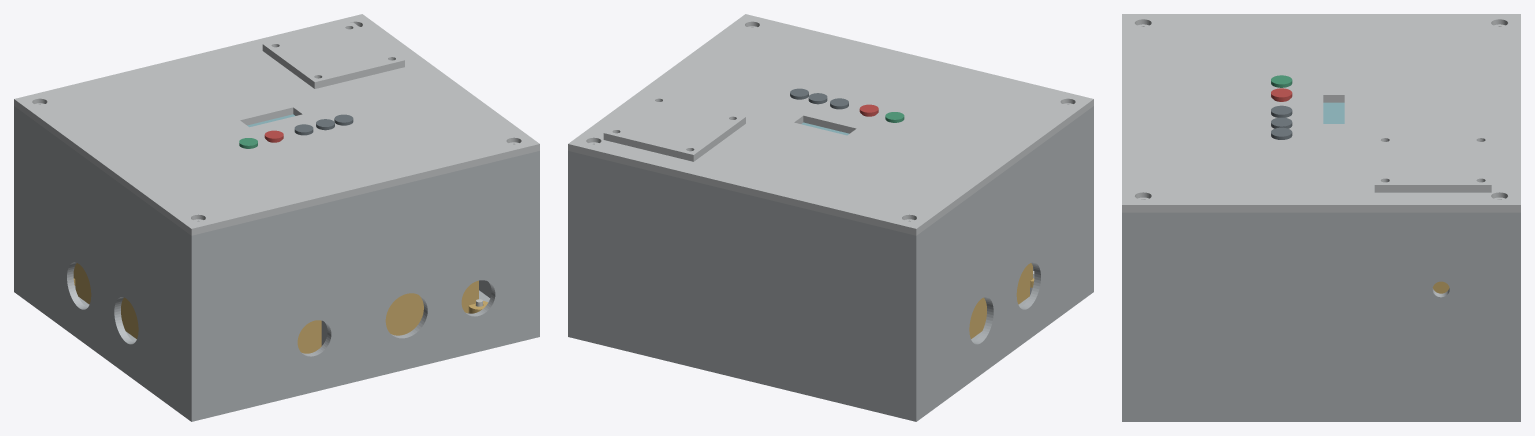
Rendered from assembled.glb.
The picture shows the model from 3 angles, left to right: view 1: azimuth 30°, elevation 25°; view 2: azimuth 150°, elevation 25°; view 3: azimuth 270°, elevation 25°; orthographic projection. The views are drawn at different scales.
Visible parts, largest first — view 1: base, lid, key_blank_plate, main_board_guard; view 2: base, lid, key_blank_plate, main_board_guard; view 3: base, lid, key_blank_plate, clear_window_PURCHASED.
Boxes of the visible parts, box(x1,y1,x2,y2) form: base: box(14, 106, 539, 421); lid: box(14, 14, 539, 235); key_blank_plate: box(262, 22, 404, 88); main_board_guard: box(73, 263, 487, 353); base: box(568, 106, 1093, 421); lid: box(568, 14, 1093, 235); key_blank_plate: box(603, 95, 745, 161); main_board_guard: box(969, 263, 1034, 338); base: box(1122, 212, 1520, 421); lid: box(1122, 14, 1520, 212); key_blank_plate: box(1374, 135, 1491, 192); clear_window_PURCHASED: box(1323, 102, 1344, 123).
Size of the model in its own units: 0.17 by 0.0932 by 0.15.
